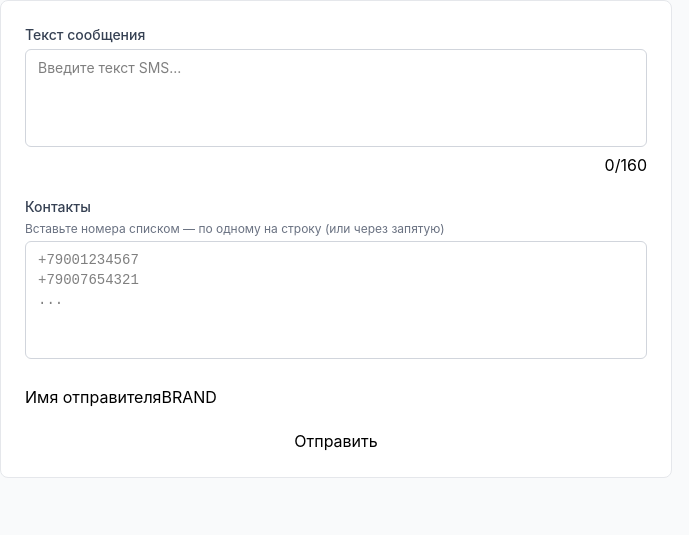
Test: QuickSendPage (US1 — Send Single SMS) › requires text before sending
Check: the field labelled "Имя отправителя" is shown, box [162,385,410,409]
Click the button "Отправить" at (336, 441), box [25,429,647,453]
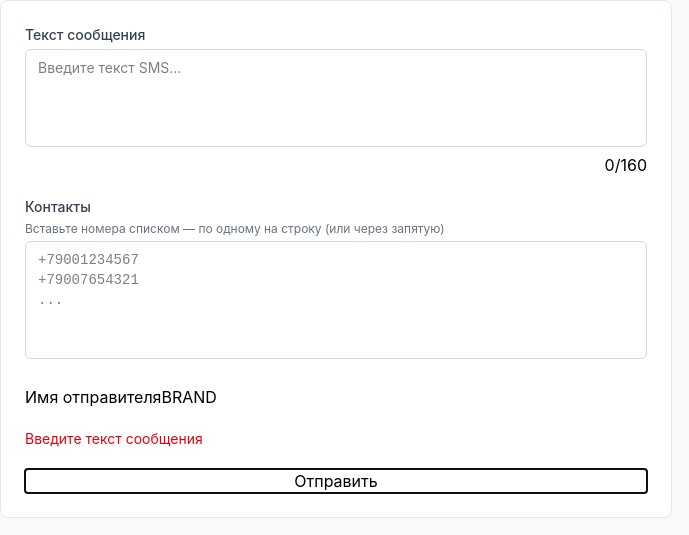
Check: the message shows "Введите текст", box [25,430,203,447]
